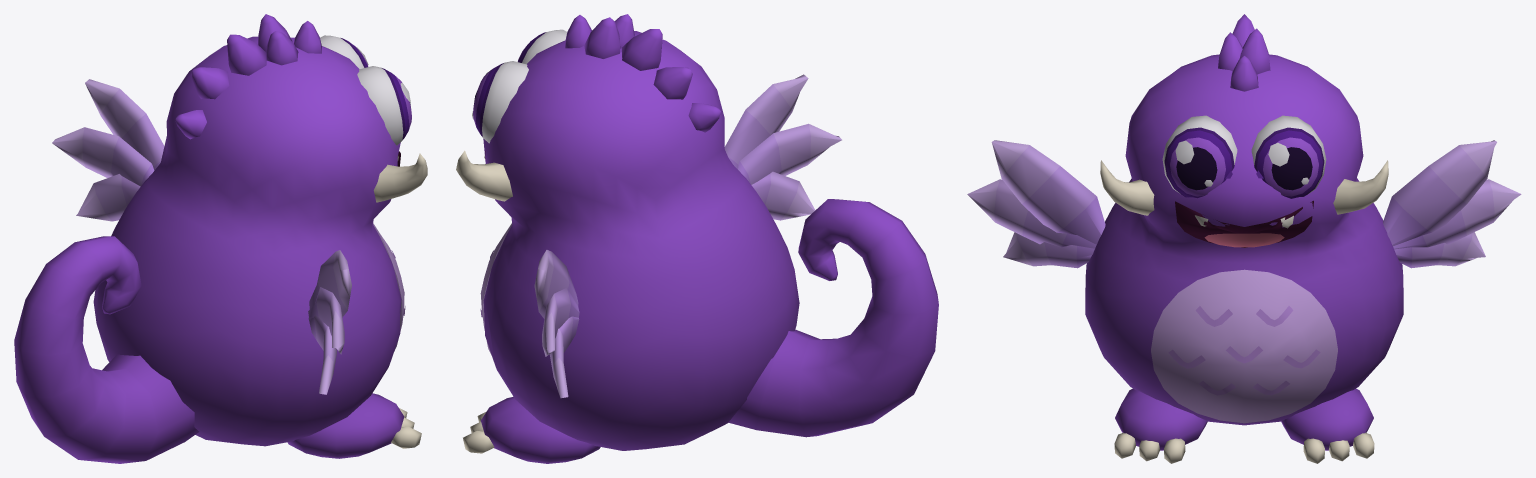
The model's file is plumox.glb.
3 renders of one model, left to right at view 1: azimuth 30°, elevation 25°; view 2: azimuth 150°, elevation 25°; view 3: azimuth 270°, elevation 25°, orthographic. The views are drawn at different scales.
Parts seen in each view (by area): view 1: plumox; view 2: plumox; view 3: plumox.
Part boxes in pixels (<box>): plumox: <box>14,14,427,463</box>; plumox: <box>456,14,938,463</box>; plumox: <box>967,14,1521,463</box>.
Size of the model in its own units: 1.42 by 1.4 by 1.76.
